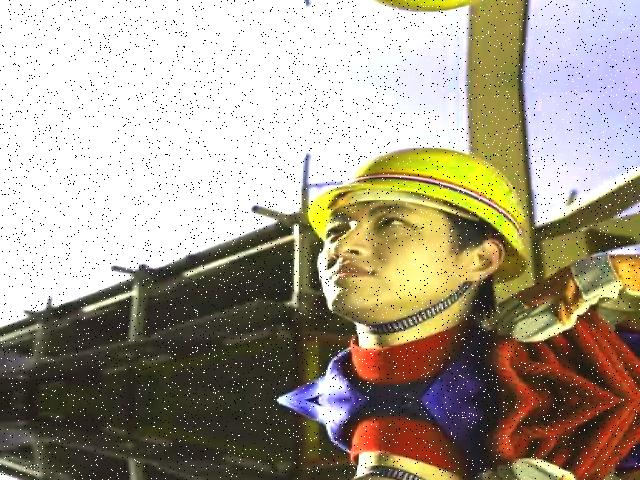Helmet: (298, 143, 540, 284)
